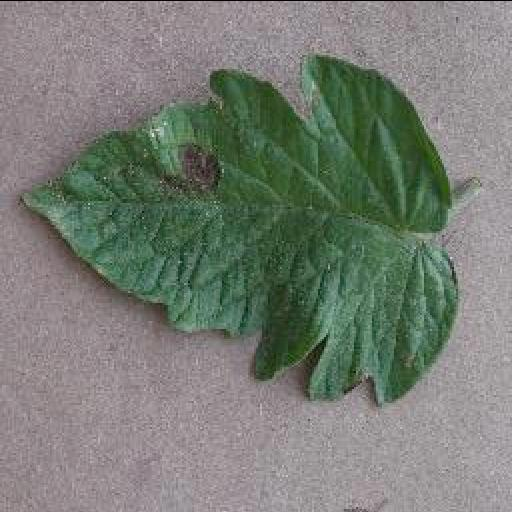disease_tomato: (15, 48, 457, 398)
